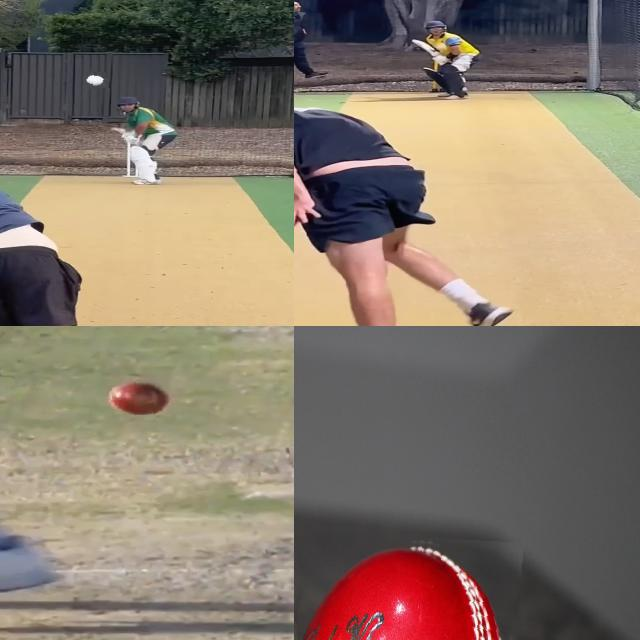Cricket ball: (297, 531, 523, 640), (108, 379, 174, 415), (84, 72, 111, 88), (435, 42, 448, 52)
